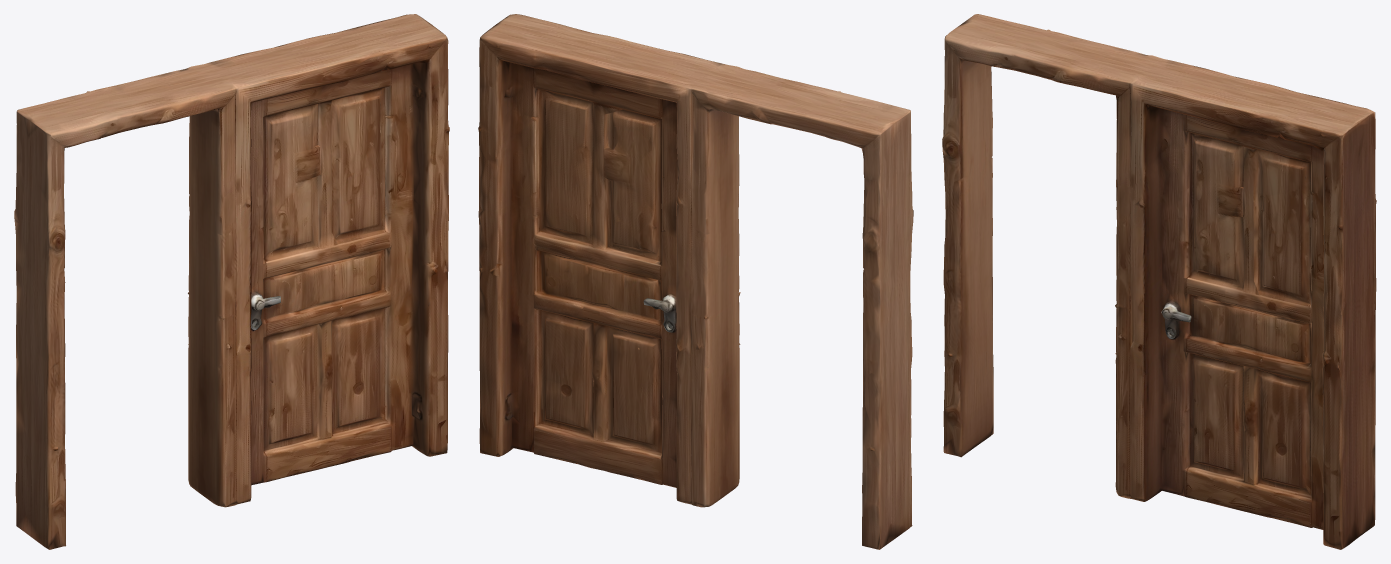
File: tripo_convert_c36a255a-6901-4012-905e-642af1ce0c9f.fbx
3 renders of one model, left to right at view 1: azimuth 30°, elevation 25°; view 2: azimuth 150°, elevation 25°; view 3: azimuth 330°, elevation 25°, orthographic.
Visible parts, largest first — view 1: tripo_node_c36a255a; view 2: tripo_node_c36a255a; view 3: tripo_node_c36a255a.
Boxes of the visible parts, x1,y1,x2,y2 form: tripo_node_c36a255a: (14,14,449,549); tripo_node_c36a255a: (478,14,913,549); tripo_node_c36a255a: (942,14,1376,549).
Bounding box in the file's own units: 1 × 0.9955 × 0.1649.
Materials: 1 (1 with a texture image).
